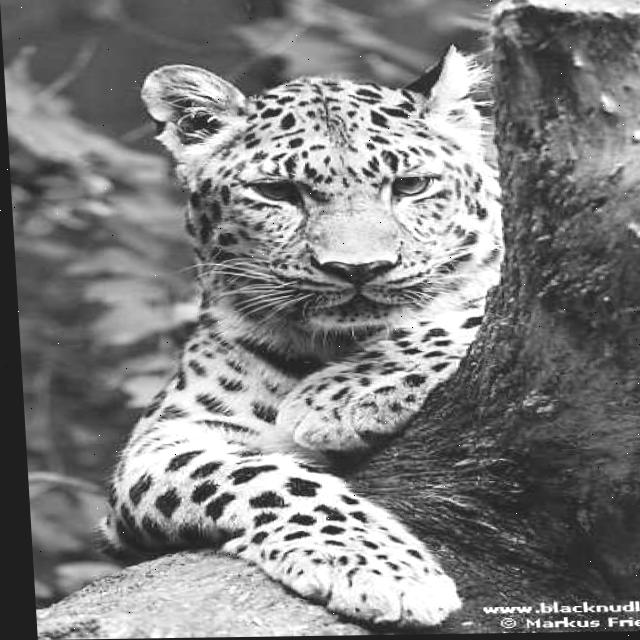Leopard: (66, 42, 531, 633)
